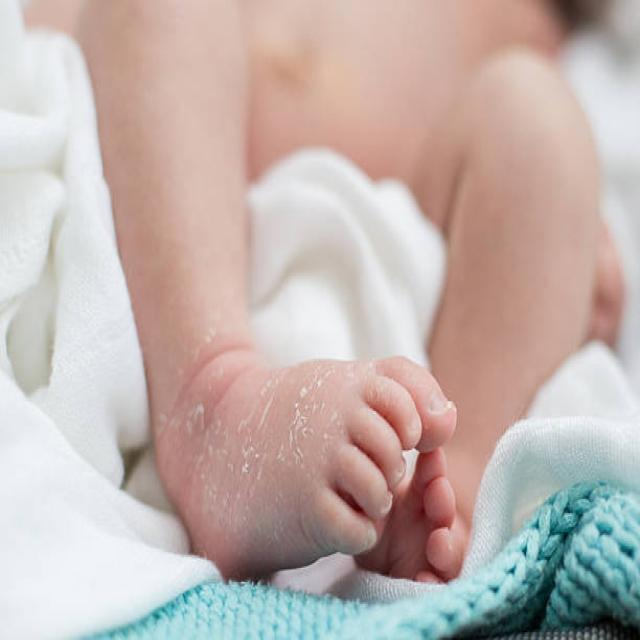dry: (181, 361, 387, 524)
